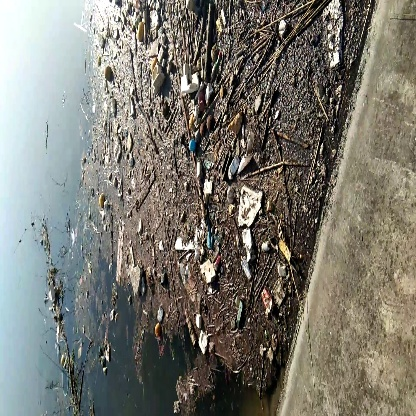plastic-garbage: (233, 182, 267, 227)
